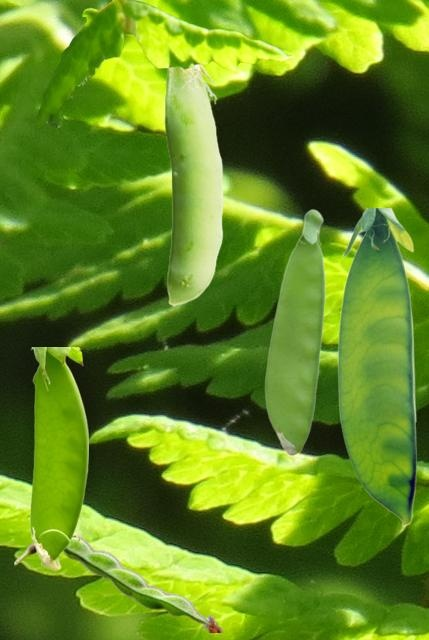pea: (337, 208, 415, 526), (14, 534, 222, 631), (264, 208, 325, 455), (162, 65, 222, 305), (30, 347, 87, 569)
